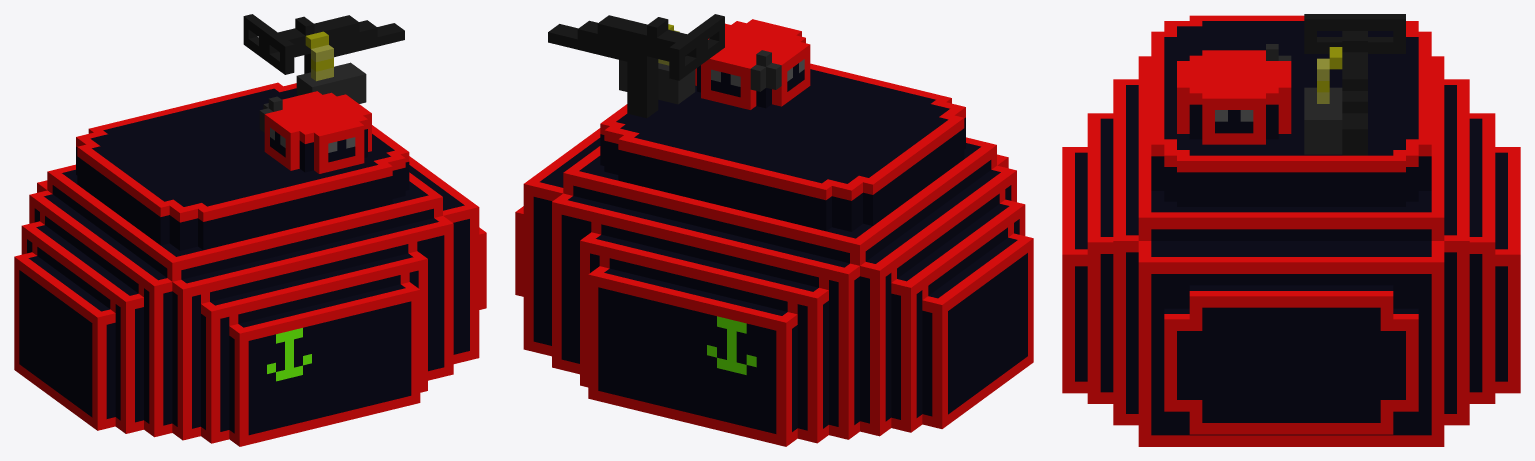
Rendered from TankEnemyMediumNeon-1.obj.
3 views of the same model, side by side, from view 1: azimuth 30°, elevation 25°; view 2: azimuth 150°, elevation 25°; view 3: azimuth 270°, elevation 25° (orthographic). The views are drawn at different scales.
Size of the model in its own units: 4.2 by 3.1 by 3.6.
1 material, 1 textured.
